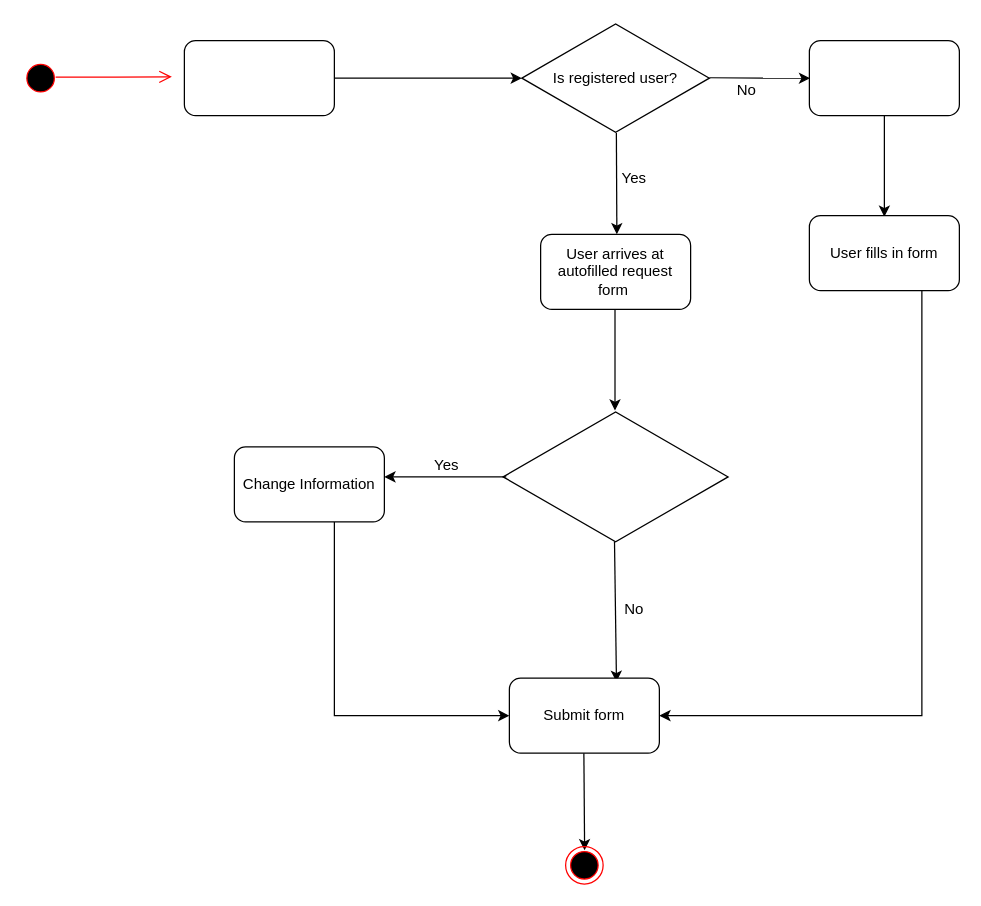
Image size: 981x906. Some labels were removed from this diagram. Here are the shapes that lost their labels. From the top down, the box of each, then its label:
(183, 39, 334, 116): User arrives at Request Form Page
(808, 39, 959, 116): User arrives at empty request form
(502, 408, 728, 544): Make changes to saved infromation?
